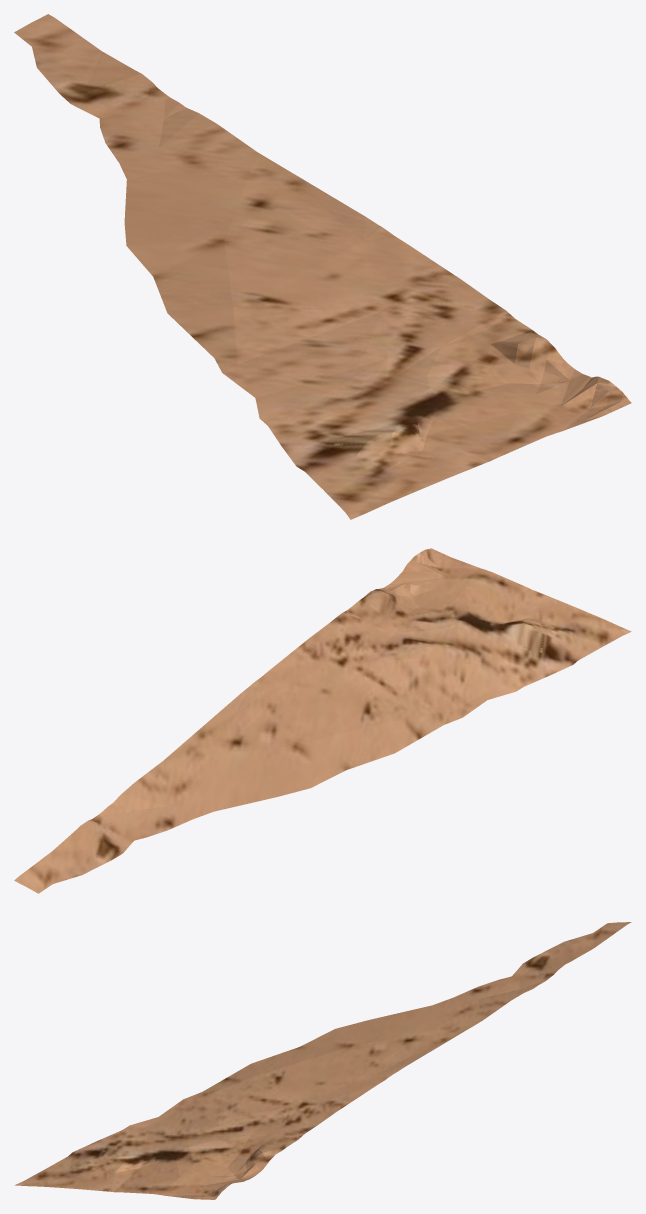
3 views of the same model, one above another, from view 1: azimuth 30°, elevation 25°; view 2: azimuth 150°, elevation 25°; view 3: azimuth 330°, elevation 25° (orthographic). The views are drawn at different scales.
Bounding box in the file's own units: 0.2906 × 0.0532 × 1.04.
Materials: 1 (1 with a texture image).
